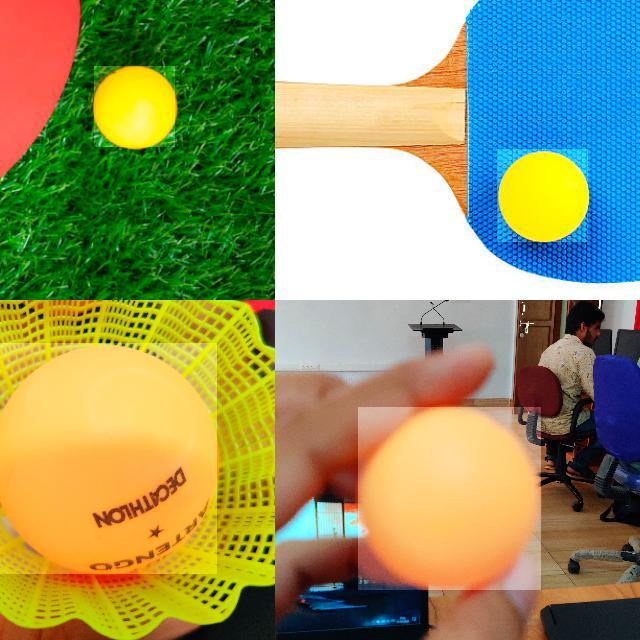ping-pong-ball: (0, 343, 219, 576), (358, 407, 542, 591), (497, 149, 589, 243), (94, 65, 176, 148)
